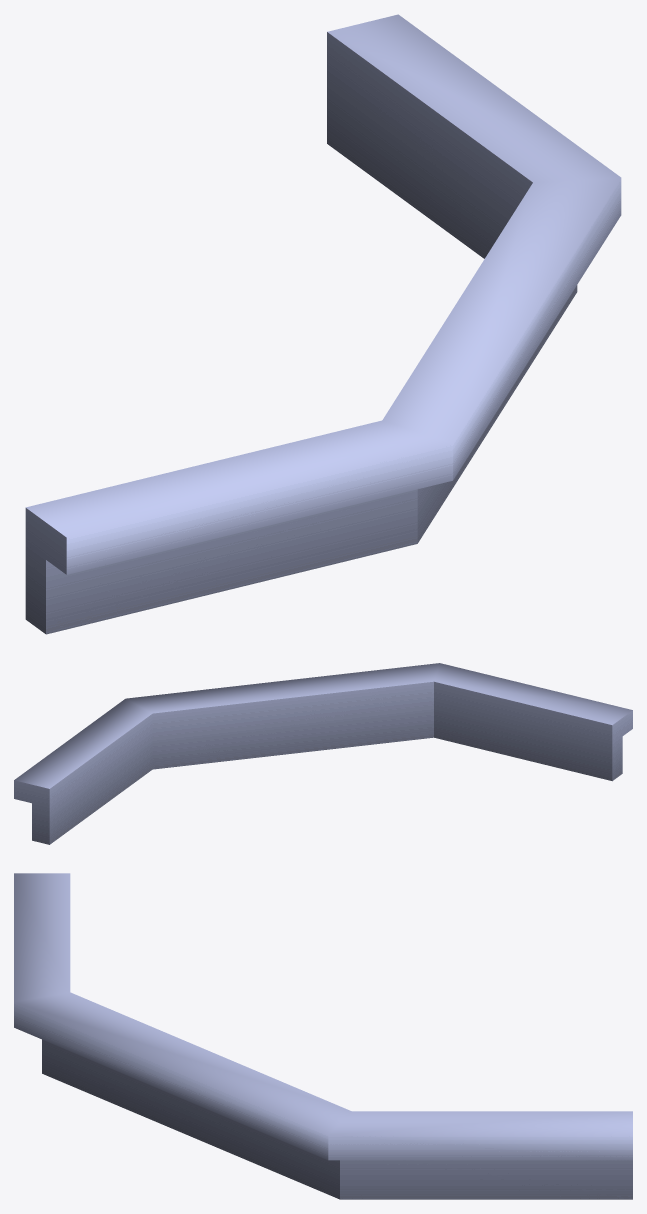
File: opengameart-kenney-building-kit_6.glb
The picture shows the model from 3 angles, top to bottom: view 1: azimuth 30°, elevation 25°; view 2: azimuth 150°, elevation 25°; view 3: azimuth 270°, elevation 25°; orthographic projection. The views are drawn at different scales.
Visible parts, largest first — view 1: border-corner-diagonal; view 2: border-corner-diagonal; view 3: border-corner-diagonal.
Part boxes in pixels (box(x1,y1,x2,y2)): border-corner-diagonal: box(25, 14, 621, 634); border-corner-diagonal: box(14, 663, 632, 844); border-corner-diagonal: box(14, 873, 632, 1199).
Size of the model in its own units: 2.2 by 0.3 by 2.2.
1 material, 1 textured.
